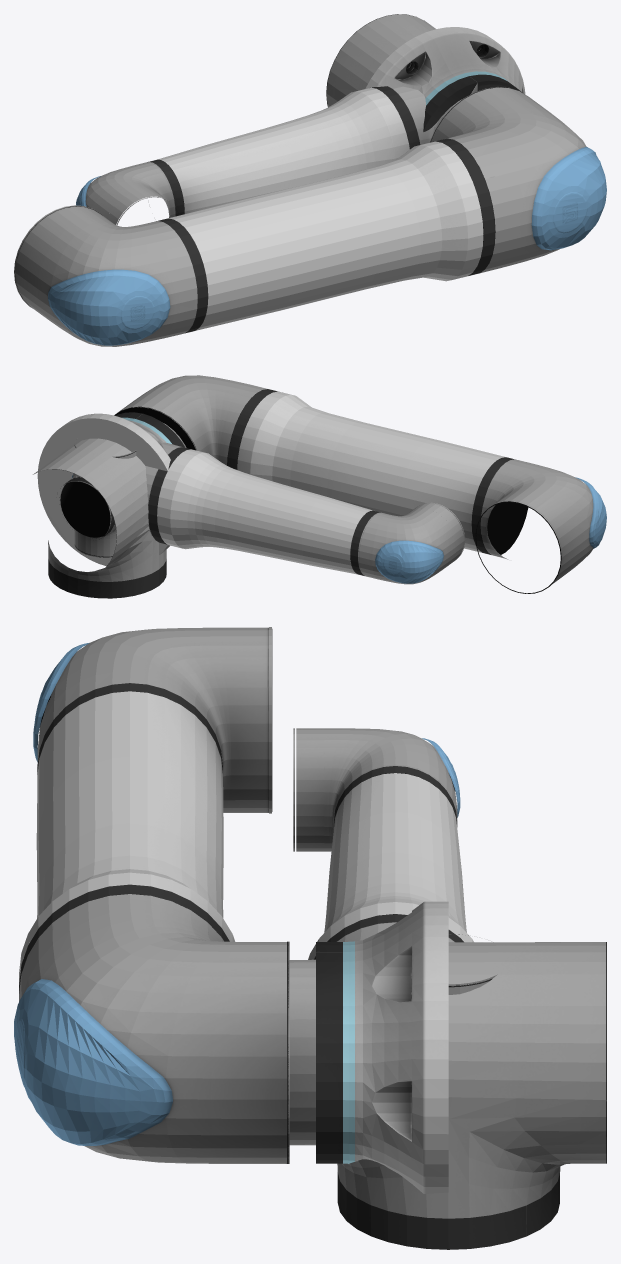
3 views of the same model, one above another, from view 1: azimuth 30°, elevation 25°; view 2: azimuth 150°, elevation 25°; view 3: azimuth 270°, elevation 25° (orthographic). The views are drawn at different scales.
Parts seen in each view (by area): view 1: upperarm, forearm, base, shoulder; view 2: upperarm, forearm, shoulder, base, wrist3, wrist1; view 3: upperarm, shoulder, forearm, base.
Boxes of the visible parts, x1,y1,x2,y2 form: upperarm: [14, 87, 606, 346]; forearm: [76, 86, 461, 225]; base: [365, 27, 525, 131]; shoulder: [326, 14, 435, 107]; upperarm: [114, 375, 606, 593]; forearm: [72, 423, 465, 584]; shoulder: [33, 438, 166, 598]; base: [37, 412, 184, 565]; wrist3: [60, 476, 115, 540]; wrist1: [59, 476, 116, 557]; upperarm: [14, 627, 289, 1163]; shoulder: [337, 942, 606, 1249]; forearm: [289, 728, 473, 1145]; base: [316, 901, 448, 1193].
Bounding box in the file's own units: 0.8372 × 0.2565 × 0.4799.
2 materials, 2 textured.
